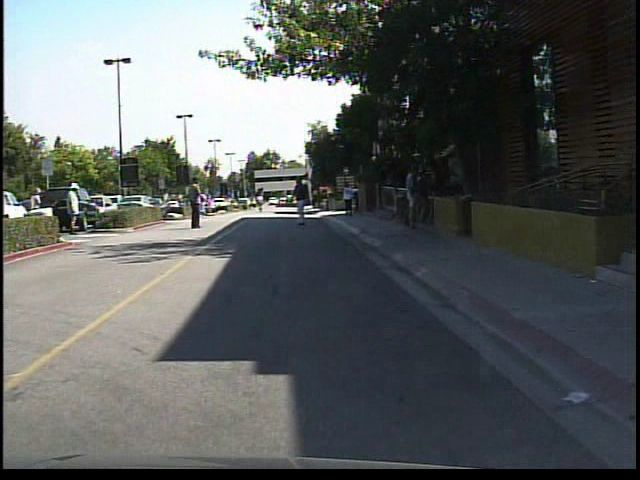person: (400, 154, 430, 236), (291, 172, 319, 230), (183, 172, 209, 233), (419, 165, 442, 230), (65, 177, 88, 237), (27, 182, 49, 239), (340, 177, 358, 222), (254, 190, 269, 214), (202, 189, 203, 214)
